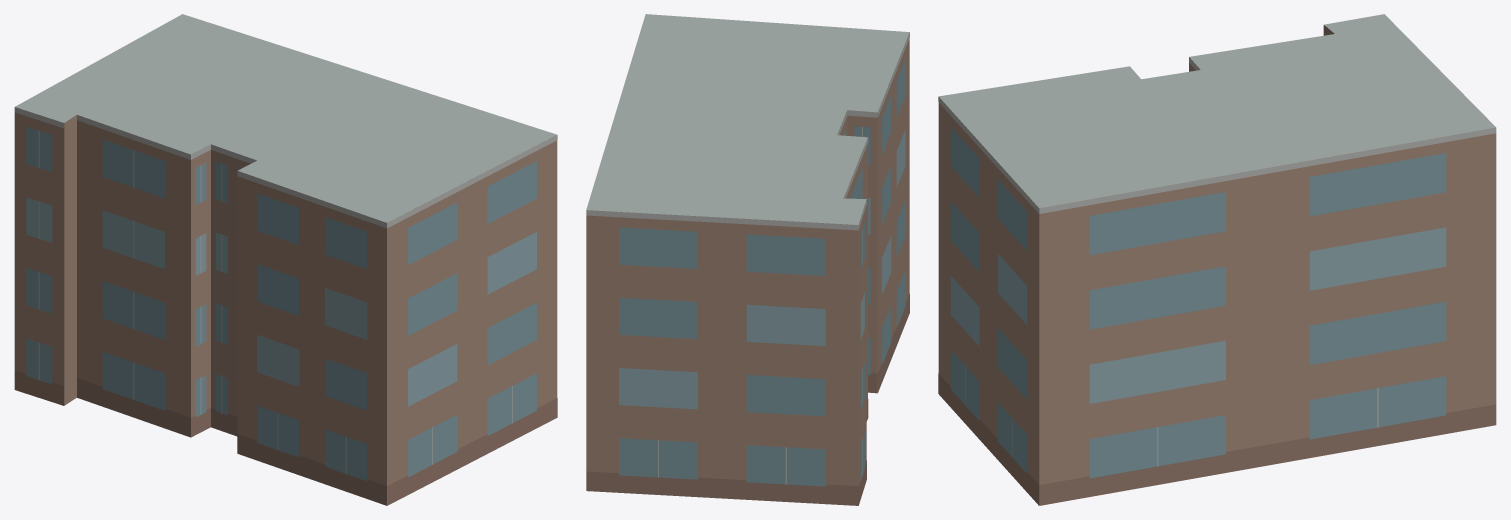
Rendered from survey-upis-32683272.glb.
The picture shows the model from 3 angles, left to right: view 1: azimuth 30°, elevation 25°; view 2: azimuth 150°, elevation 25°; view 3: azimuth 270°, elevation 25°; orthographic projection. The views are drawn at different scales.
Parts seen in each view (by area): view 1: survey-upis-32683272.tmp; view 2: survey-upis-32683272.tmp; view 3: survey-upis-32683272.tmp.
Part boxes in pixels (box(x1,y1,x2,y2)): survey-upis-32683272.tmp: box(14, 14, 557, 505); survey-upis-32683272.tmp: box(586, 14, 909, 505); survey-upis-32683272.tmp: box(938, 14, 1496, 505).
Bounding box in the file's own units: 17.77 × 12.68 × 21.56.
